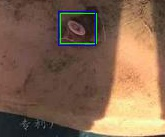text: (60, 13, 96, 43)
